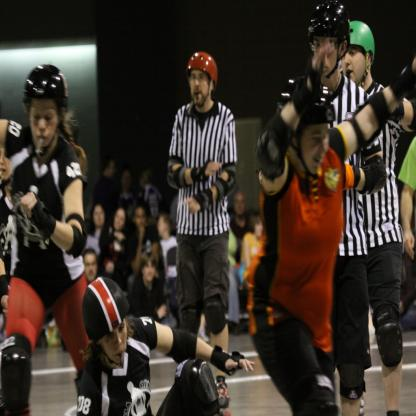Helmet: (278, 76, 337, 187), (80, 281, 128, 364), (307, 0, 351, 78), (23, 63, 68, 112), (184, 50, 219, 108), (349, 20, 375, 84)
